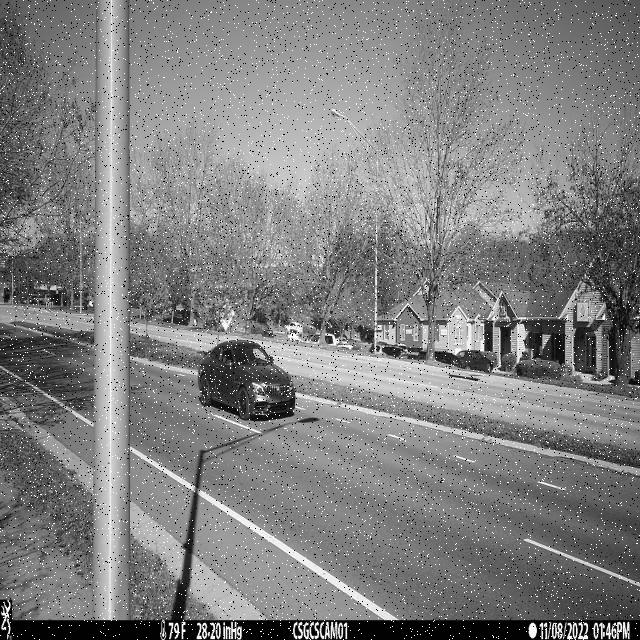Sedan: (197, 339, 297, 421)
